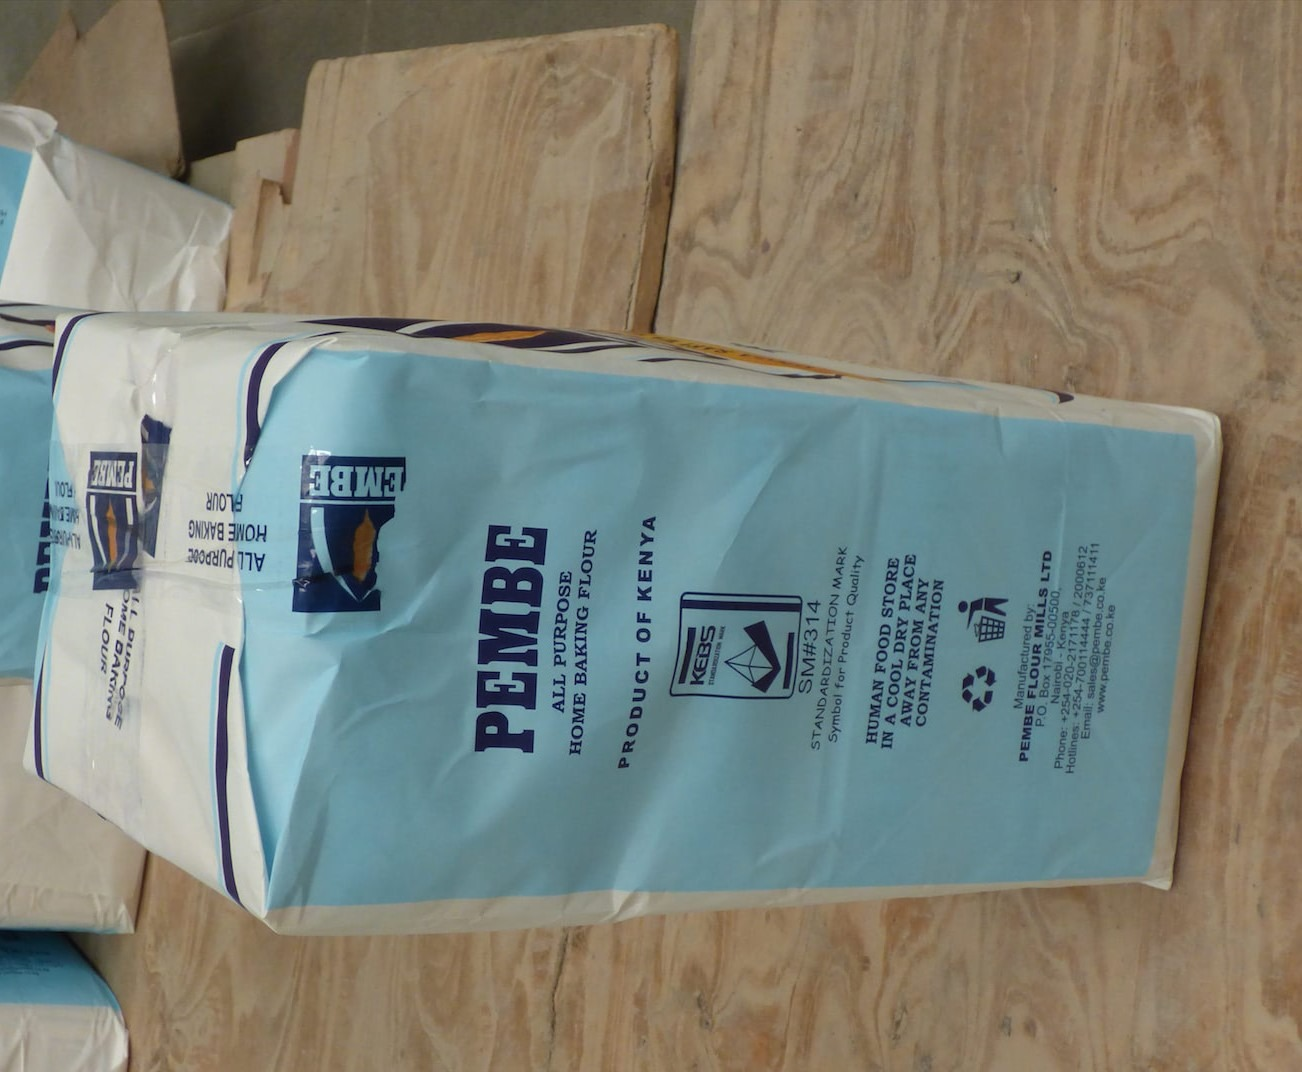wheat_flour_blue_label: (49, 303, 1218, 932)
